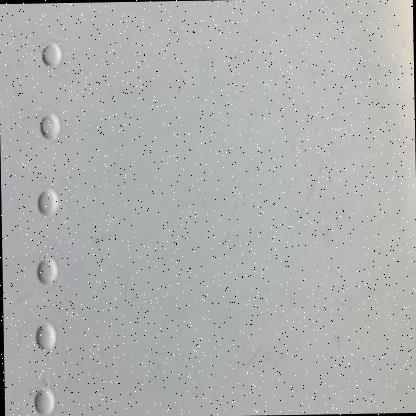Nocrack: (8, 4, 397, 392)
